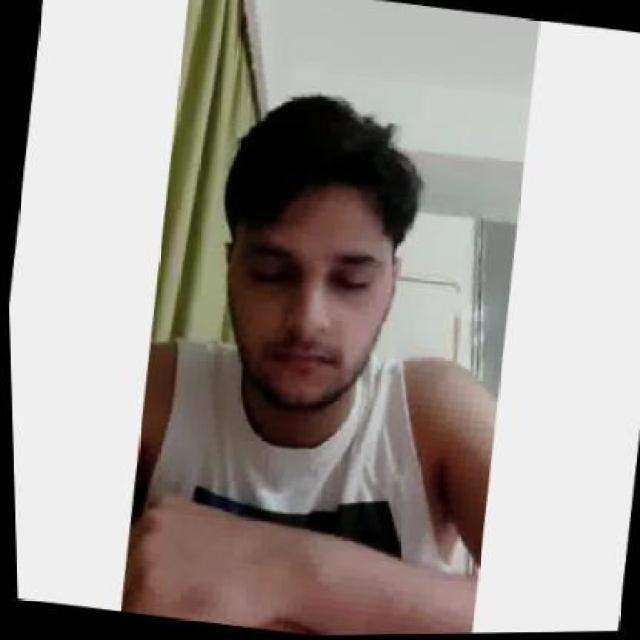inattentif: (197, 78, 423, 431)
